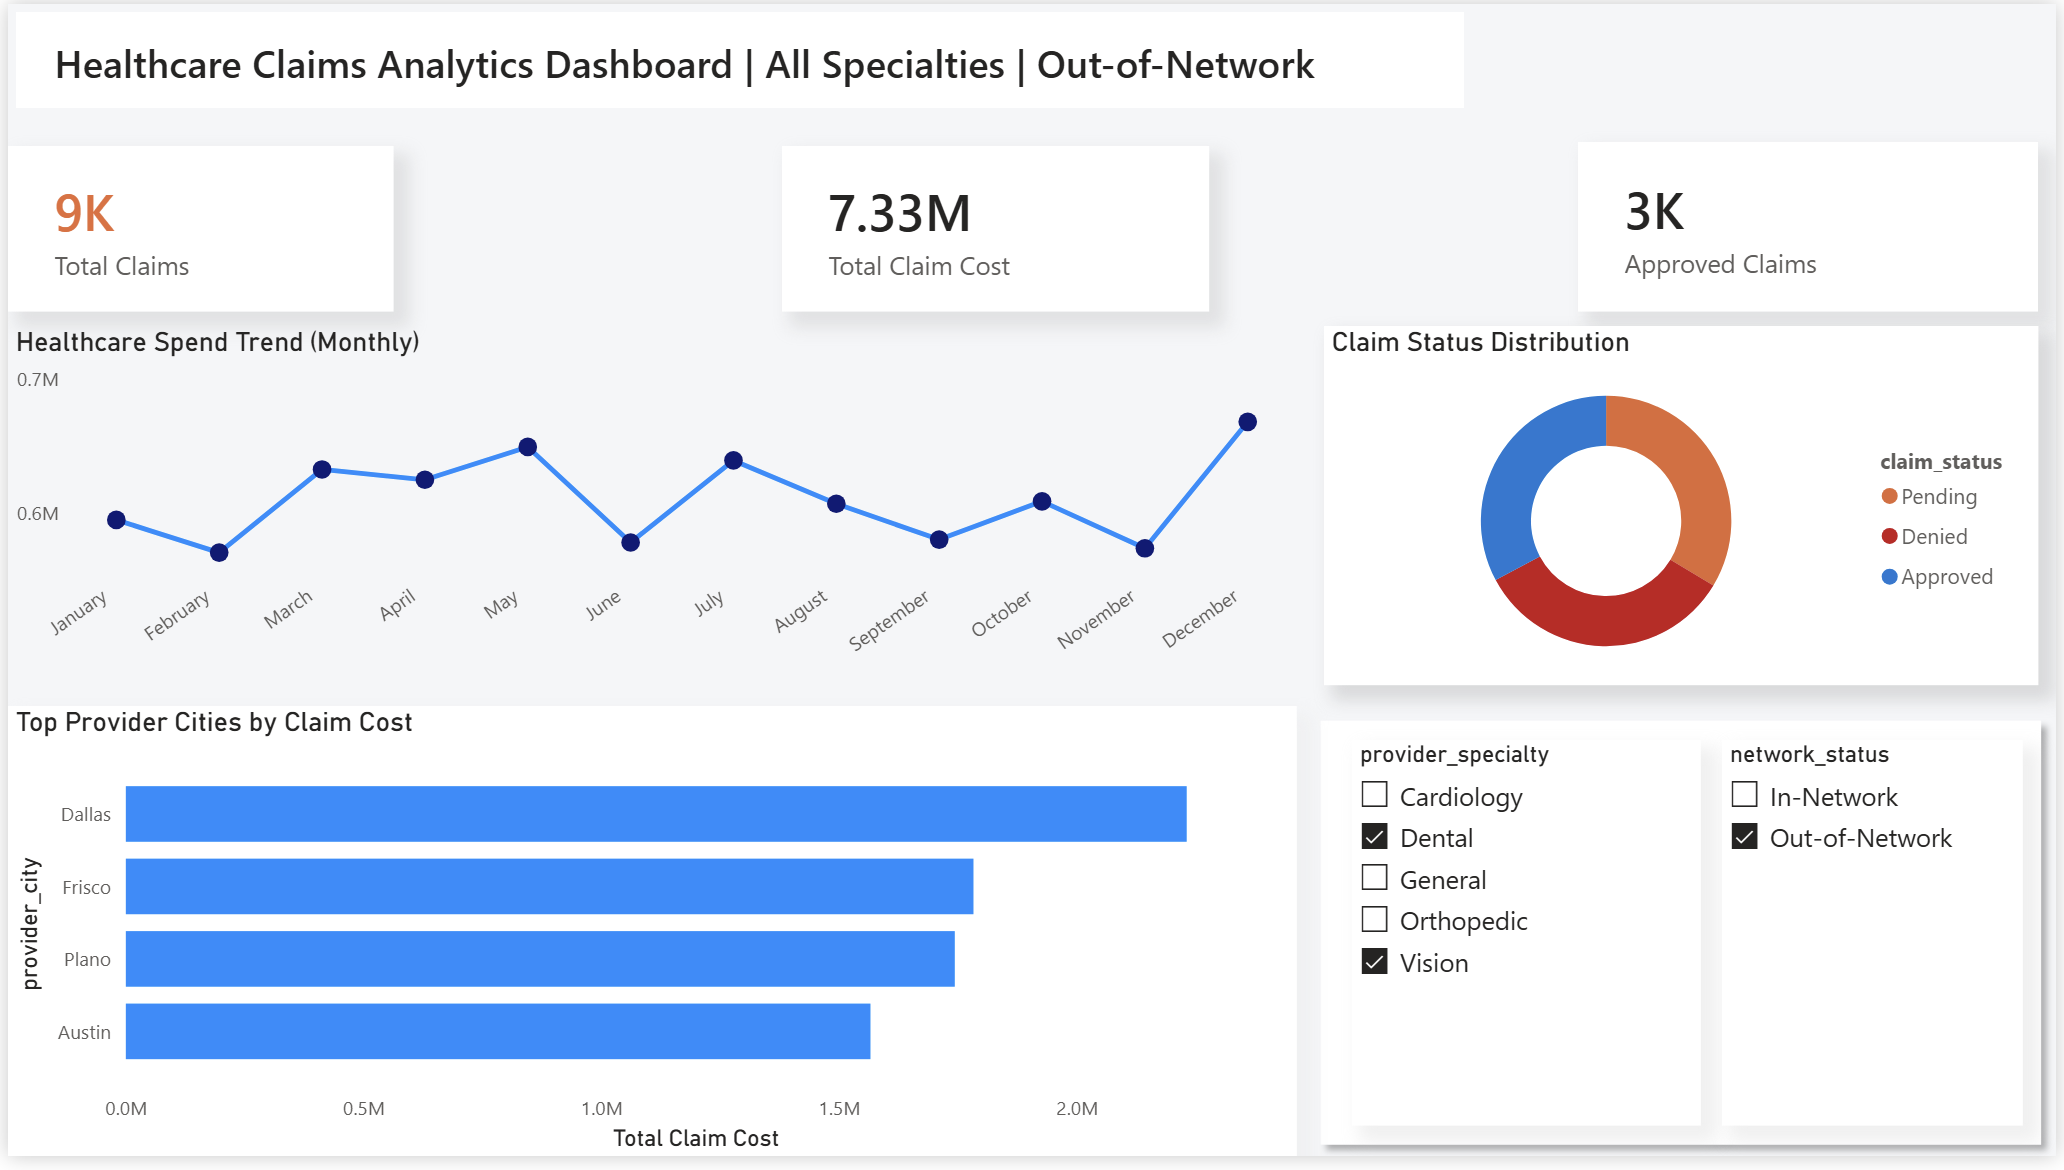

This screenshot's page, from the dashboard's own definition file:
{"tool":"powerbi","page":{"name":"Health_Claims_Analytics_Dashboard","canvas":[1280,720],"ordinal":0},"visuals":[{"type":"shape","box":[811.6,438.5,468.4,283.2],"z":0},{"type":"cardVisual","fields":{"Data":["claims_fact.Total Claims","claims_fact.Total Claims"]},"box":[0,88.5,241,103.5],"z":1000},{"type":"cardVisual","fields":{"Data":["claims_fact.Total Claim Cost"]},"box":[483.4,88.5,266.9,103.5],"z":2000},{"type":"cardVisual","fields":{"Data":["claims_fact.Approved Claims"]},"box":[981.8,85.8,287.3,106.2],"z":3000},{"type":"lineChart","title":"Healthcare Spend Trend (Monthly)","fields":{"Category":["claims_fact.claim_date.Variation.Date Hierarchy.Year","claims_fact.claim_date.Variation.Date Hierarchy.Quarter","claims_fact.claim_date.Variation.Date Hierarchy.Month","claims_fact.claim_date.Variation.Date Hierarchy.Day"],"Y":["claims_fact.Running Cost"]},"box":[0,201.1,805.6,226.7],"z":4000},{"type":"listSlicer","fields":{"Values":["provider_dim.provider_specialty"]},"box":[840.2,460.3,217.9,241],"z":5000},{"type":"listSlicer","fields":{"Values":["provider_dim.network_status"]},"box":[1071.7,460.3,187.9,241],"z":6000},{"type":"clusteredBarChart","title":"Top Provider Cities by Claim Cost","fields":{"Category":["provider_dim.provider_city"],"Y":["claims_fact.Total Claim Cost"]},"box":[0,438.6,805.7,282.9],"z":7000},{"type":"donutChart","title":"Claim Status Distribution","fields":{"Category":["claims_fact.claim_status"],"Y":["Sum(claims_fact.claim_id)"]},"box":[822.5,201.5,446.6,224.7],"z":8000},{"type":"shape","box":[0,0,1260,71.1],"z":9000},{"type":"cardVisual","fields":{"Data":["claims_fact.Dynamic_Title_Header"]},"box":[0,0,915.1,70.8],"z":9001}]}

Visuals, with their boxes in screenshot pixels (x1, y1, x2, y2), scaled from the page's 1280x720 canvas onto the 2064x1170 screenshot:
shape: left=1309, top=713, right=2063, bottom=1169
cardVisual - claims_fact.Total Claims x claims_fact.Total Claims: left=0, top=144, right=389, bottom=312
cardVisual - claims_fact.Total Claim Cost: left=779, top=144, right=1210, bottom=312
cardVisual - claims_fact.Approved Claims: left=1583, top=139, right=2046, bottom=312
"Healthcare Spend Trend (Monthly)" lineChart: left=0, top=327, right=1299, bottom=695
listSlicer - provider_dim.provider_specialty: left=1355, top=748, right=1706, bottom=1140
listSlicer - provider_dim.network_status: left=1728, top=748, right=2031, bottom=1140
"Top Provider Cities by Claim Cost" clusteredBarChart: left=0, top=713, right=1299, bottom=1169
"Claim Status Distribution" donutChart: left=1326, top=327, right=2046, bottom=693
shape: left=0, top=0, right=2032, bottom=116
cardVisual - claims_fact.Dynamic_Title_Header: left=0, top=0, right=1476, bottom=115
